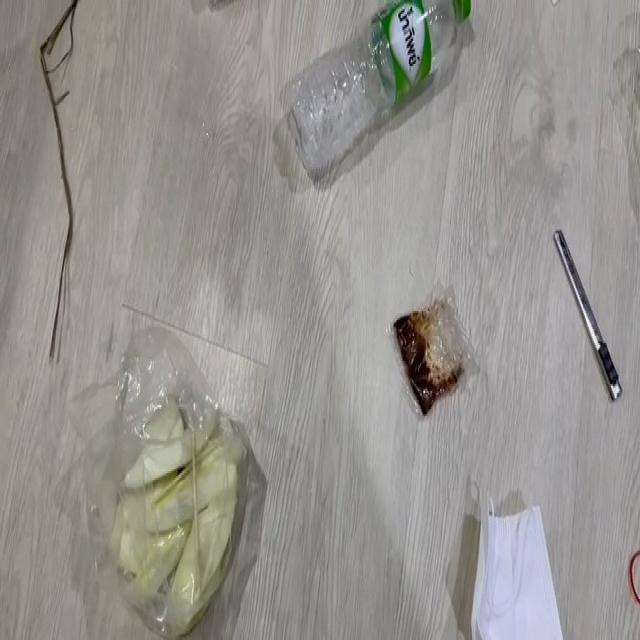Anorganik: (277, 0, 475, 173), (544, 228, 640, 408), (624, 546, 640, 606)
B3: (110, 384, 270, 634), (454, 491, 589, 640), (33, 0, 75, 360), (383, 290, 485, 424)
